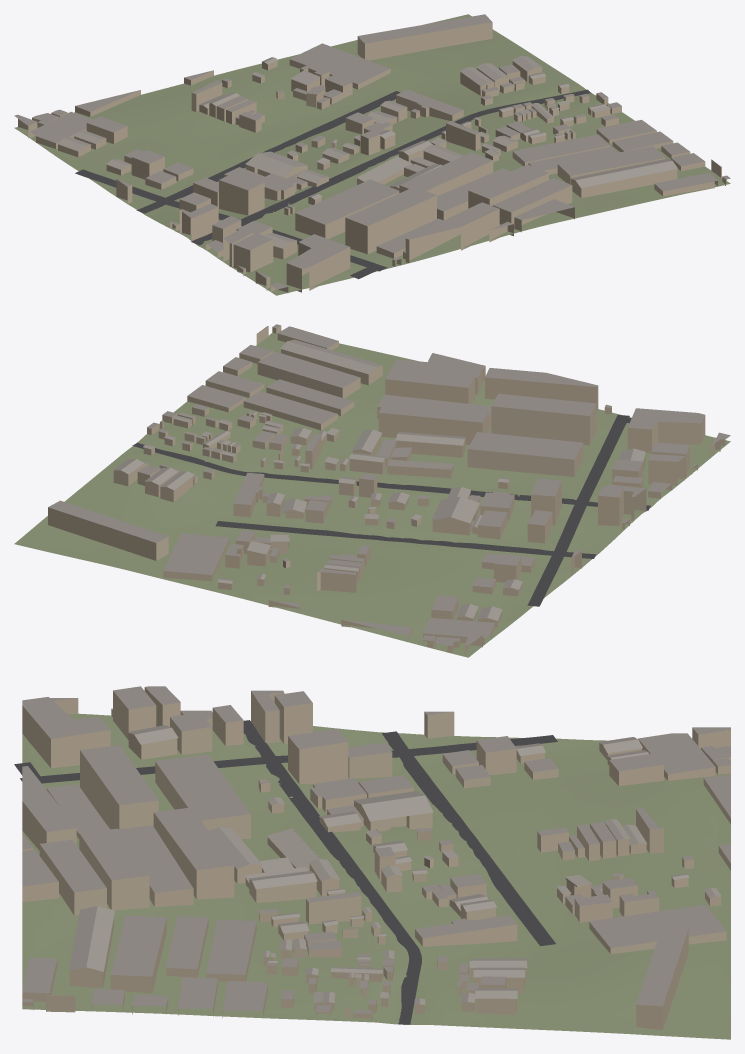
The picture shows the model from 3 angles, top to bottom: view 1: azimuth 30°, elevation 25°; view 2: azimuth 150°, elevation 25°; view 3: azimuth 270°, elevation 25°; orthographic projection. The views are drawn at different scales.
Parts seen in each view (by area): view 1: ground, walls, roofs, sheetRoofs, road; view 2: ground, walls, roofs, sheetRoofs, road; view 3: ground, walls, roofs, sheetRoofs, road.
Part boxes in pixels (left/top/right/bottom): ground: left=14, top=14, right=730, bottom=295; walls: left=18, top=22, right=726, bottom=292; roofs: left=14, top=14, right=730, bottom=289; sheetRoofs: left=57, top=56, right=677, bottom=252; road: left=75, top=89, right=591, bottom=279; ground: left=14, top=330, right=730, bottom=657; walls: left=48, top=326, right=725, bottom=655; roofs: left=48, top=324, right=730, bottom=645; sheetRoofs: left=113, top=339, right=645, bottom=620; road: left=132, top=414, right=650, bottom=606; ground: left=22, top=713, right=730, bottom=1039; walls: left=22, top=687, right=730, bottom=1030; roofs: left=22, top=686, right=730, bottom=1013; sheetRoofs: left=69, top=725, right=721, bottom=1005; road: left=14, top=720, right=557, bottom=1024.
Size of the model in its own units: 253 by 26.56 by 253.
